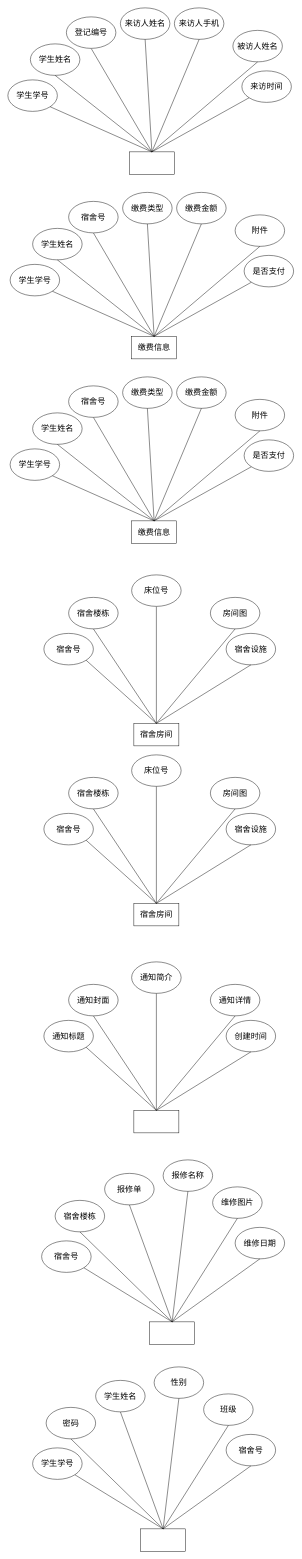
Some shapes in this 302 by 1559 pixel diagram are drawn without their labels. Here are the shapes that lost their labels. From the top down, the box of each, then its label:
(129, 151, 174, 174): 访客登记
(133, 1110, 179, 1133): 宿舍通知
(149, 1321, 195, 1344): 宿舍维修
(140, 1528, 186, 1551): 学生
